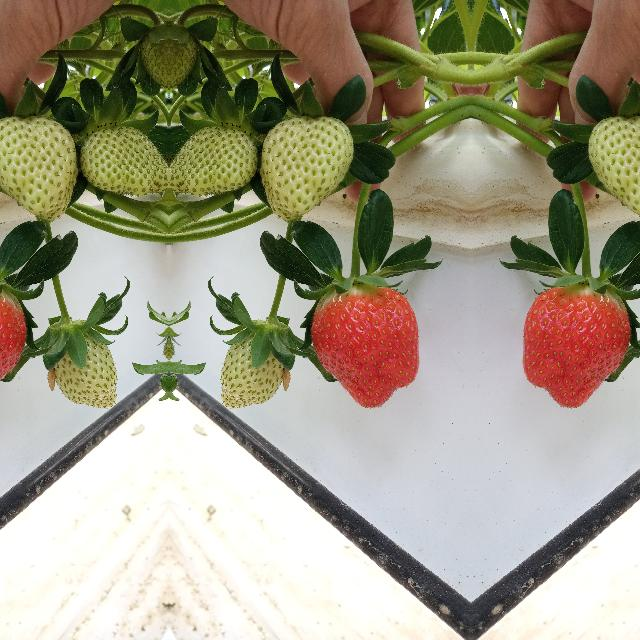Health_100: (310, 278, 420, 410), (521, 278, 631, 410), (0, 278, 26, 410)
Health_25: (269, 108, 351, 220), (225, 312, 297, 428), (39, 312, 111, 428), (172, 115, 250, 217), (86, 115, 164, 217), (0, 108, 67, 219), (590, 108, 640, 219)
